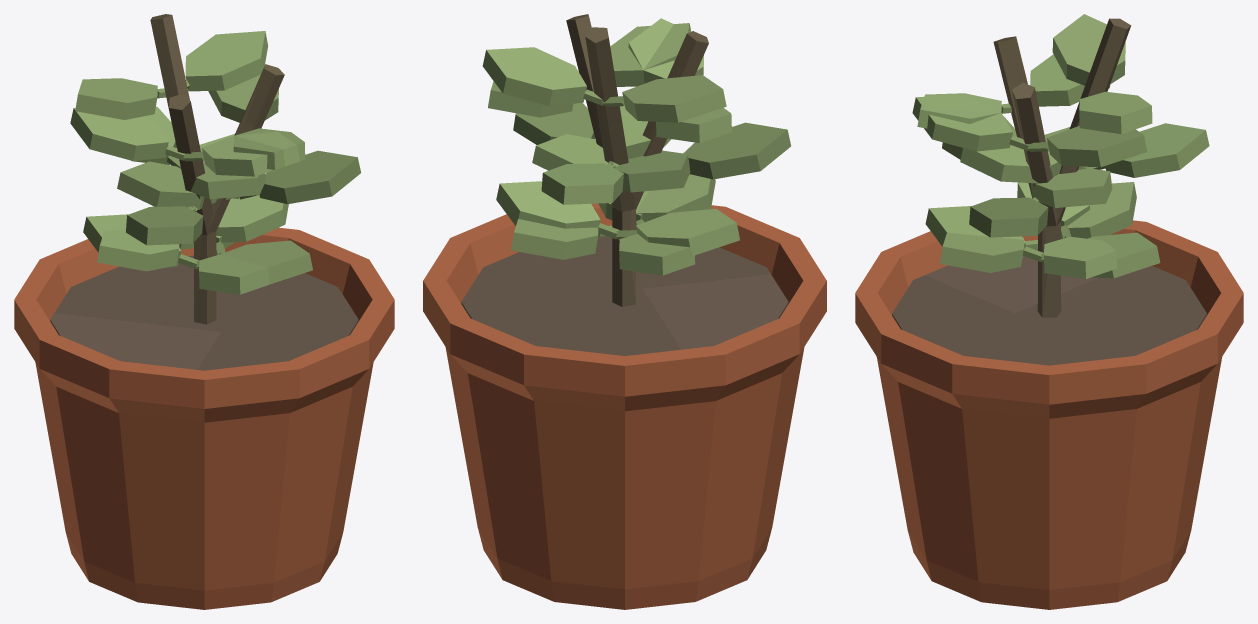
The model's file is new-pulvinata.glb.
The picture shows the model from 3 angles, left to right: view 1: azimuth 30°, elevation 25°; view 2: azimuth 150°, elevation 25°; view 3: azimuth 270°, elevation 25°; orthographic projection. The views are drawn at different scales.
Parts seen in each view (by area): view 1: new-pulvinata/review-terra-vessel, new-pulvinata/review-rooted-soil, new-pulvinata/leaf-024, new-pulvinata/leaf-007, new-pulvinata/leaf-037, new-pulvinata/leaf-026, new-pulvinata/stem-027, new-pulvinata/leaf-009, new-pulvinata/leaf-033, new-pulvinata/stem-001, new-pulvinata/leaf-039, new-pulvinata/leaf-016 (+9 smaller); view 2: new-pulvinata/review-terra-vessel, new-pulvinata/review-rooted-soil, new-pulvinata/leaf-024, new-pulvinata/leaf-033, new-pulvinata/leaf-026, new-pulvinata/stem-014, new-pulvinata/leaf-018, new-pulvinata/leaf-016, new-pulvinata/leaf-020, new-pulvinata/leaf-005, new-pulvinata/stem-027, new-pulvinata/leaf-009 (+10 smaller); view 3: new-pulvinata/review-terra-vessel, new-pulvinata/review-rooted-soil, new-pulvinata/leaf-011, new-pulvinata/leaf-020, new-pulvinata/leaf-013, new-pulvinata/stem-014, new-pulvinata/leaf-026, new-pulvinata/leaf-031, new-pulvinata/leaf-007, new-pulvinata/stem-001, new-pulvinata/leaf-024, new-pulvinata/leaf-016 (+9 smaller).
Boxes of the visible parts, left/top/right/bottom form: new-pulvinata/review-terra-vessel: left=14, top=227, right=394, bottom=609; new-pulvinata/review-rooted-soil: left=50, top=255, right=358, bottom=370; new-pulvinata/leaf-024: left=185, top=31, right=267, bottom=91; new-pulvinata/leaf-007: left=259, top=150, right=360, bottom=204; new-pulvinata/leaf-037: left=70, top=108, right=168, bottom=160; new-pulvinata/leaf-026: left=75, top=78, right=157, bottom=119; new-pulvinata/stem-027: left=169, top=94, right=216, bottom=324; new-pulvinata/leaf-009: left=117, top=161, right=211, bottom=209; new-pulvinata/leaf-033: left=126, top=206, right=203, bottom=245; new-pulvinata/stem-001: left=194, top=64, right=284, bottom=324; new-pulvinata/leaf-039: left=202, top=131, right=300, bottom=176; new-pulvinata/leaf-016: left=216, top=195, right=288, bottom=242; new-pulvinata/review-terra-vessel: left=423, top=203, right=826, bottom=609; new-pulvinata/review-rooted-soil: left=461, top=236, right=788, bottom=355; new-pulvinata/leaf-024: left=482, top=47, right=586, bottom=106; new-pulvinata/leaf-033: left=683, top=122, right=790, bottom=179; new-pulvinata/leaf-026: left=622, top=75, right=726, bottom=122; new-pulvinata/stem-014: left=585, top=27, right=635, bottom=302; new-pulvinata/leaf-018: left=636, top=208, right=739, bottom=256; new-pulvinata/leaf-016: left=496, top=181, right=600, bottom=228; new-pulvinata/leaf-020: left=541, top=163, right=623, bottom=204; new-pulvinata/leaf-005: left=511, top=219, right=598, bottom=259; new-pulvinata/stem-027: left=622, top=31, right=708, bottom=306; new-pulvinata/leaf-009: left=614, top=150, right=690, bottom=192; new-pulvinata/review-terra-vessel: left=855, top=220, right=1243, bottom=609; new-pulvinata/review-rooted-soil: left=892, top=249, right=1206, bottom=365; new-pulvinata/leaf-011: left=912, top=94, right=1012, bottom=151; new-pulvinata/leaf-020: left=1105, top=123, right=1209, bottom=177; new-pulvinata/leaf-013: left=1047, top=126, right=1147, bottom=167; new-pulvinata/stem-014: left=1042, top=18, right=1131, bottom=317; new-pulvinata/leaf-026: left=1052, top=14, right=1125, bottom=85; new-pulvinata/leaf-031: left=939, top=232, right=1024, bottom=272; new-pulvinata/leaf-007: left=969, top=197, right=1048, bottom=237; new-pulvinata/stem-001: left=1012, top=82, right=1061, bottom=316; new-pulvinata/leaf-024: left=1079, top=91, right=1152, bottom=134; new-pulvinata/leaf-016: left=1044, top=236, right=1116, bottom=279.
Size of the model in its own units: 0.19 by 0.2847 by 0.19.
Materials: 4 (4 with a texture image).
